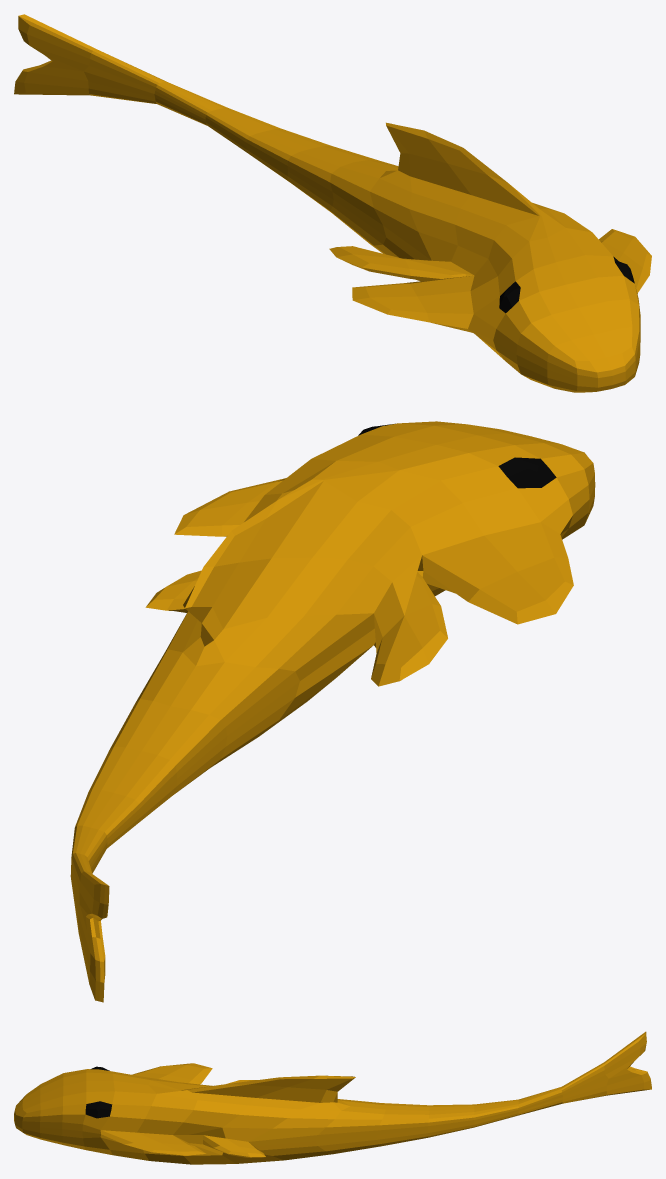
Rendered from cascudo-tigre-ouro.fbx.
The picture shows the model from 3 angles, top to bottom: view 1: azimuth 30°, elevation 25°; view 2: azimuth 150°, elevation 25°; view 3: azimuth 270°, elevation 25°; orthographic projection. The views are drawn at different scales.
Parts seen in each view (by area): view 1: cascudo-troglobio.001; view 2: cascudo-troglobio.001; view 3: cascudo-troglobio.001.
Boxes of the visible parts, x1,y1,x2,y2 form: cascudo-troglobio.001: [14, 14, 651, 392]; cascudo-troglobio.001: [70, 421, 595, 1002]; cascudo-troglobio.001: [14, 1031, 651, 1164].
Bounding box in the file's own units: 0.4652 × 0.1865 × 1.33.
